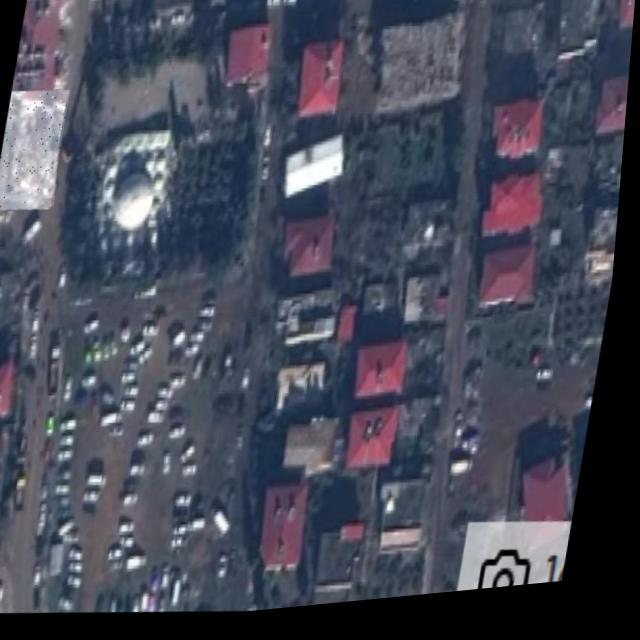Rubble: (0, 86, 72, 215)
